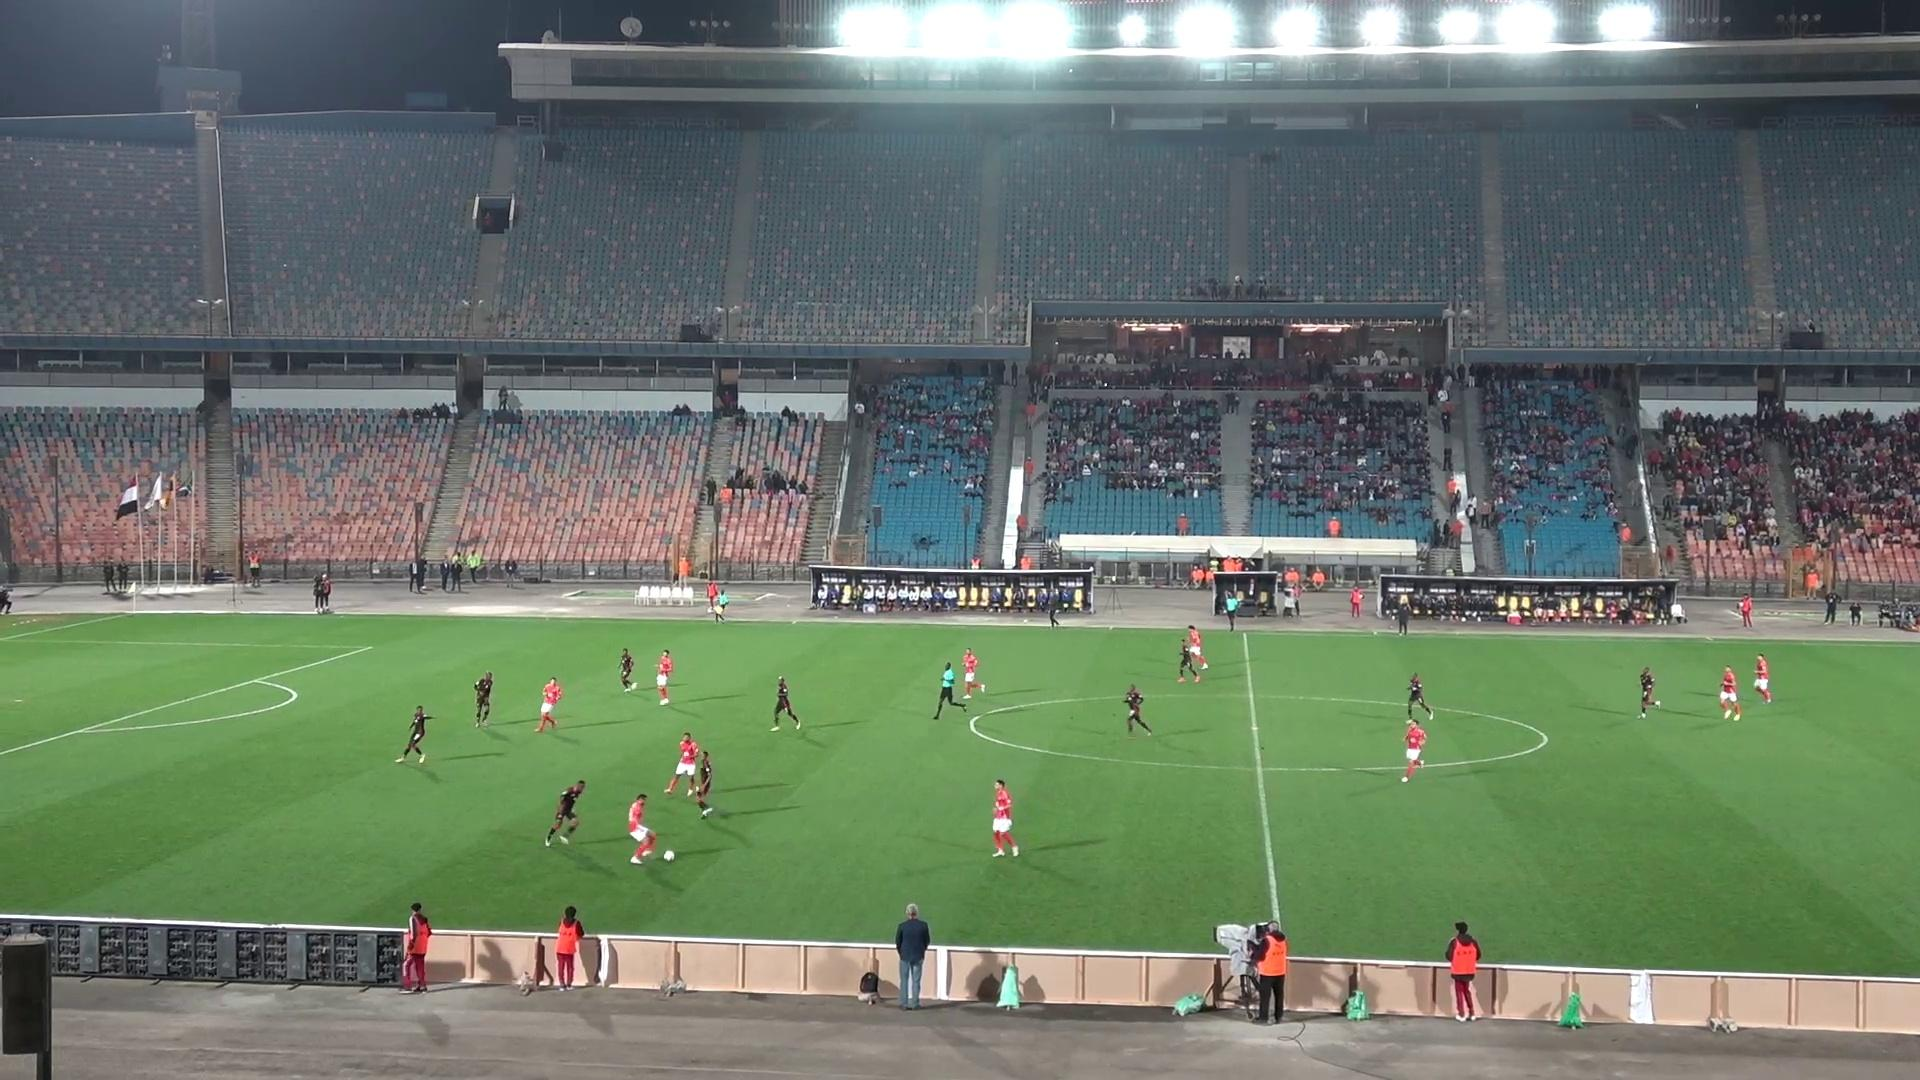Ball: (661, 851, 675, 861)
Refree: (932, 662, 965, 719), (1222, 580, 1244, 630), (705, 582, 731, 621)
Team1: (663, 732, 713, 796), (942, 647, 985, 699), (992, 779, 1019, 857), (626, 794, 657, 864), (1399, 717, 1427, 782), (535, 676, 563, 732), (1178, 626, 1208, 676), (1717, 666, 1742, 719), (654, 651, 674, 705), (1751, 655, 1771, 704)
Team2: (670, 750, 713, 818), (543, 781, 585, 847), (396, 705, 433, 761), (767, 676, 800, 731), (1124, 684, 1153, 735), (1178, 633, 1208, 680), (1404, 673, 1433, 720), (1636, 666, 1662, 717), (473, 673, 493, 727), (618, 647, 638, 691)
